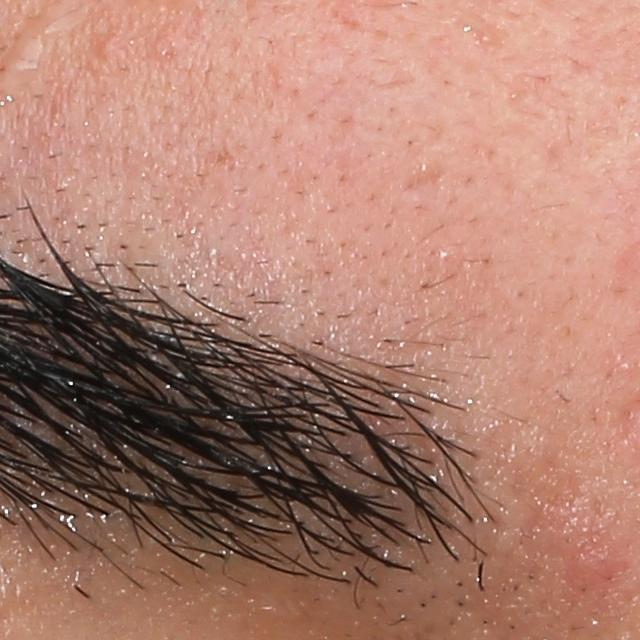atrophic_scar: (396, 166, 453, 197)
comedo: (97, 35, 120, 59)
papule: (562, 539, 621, 594)
